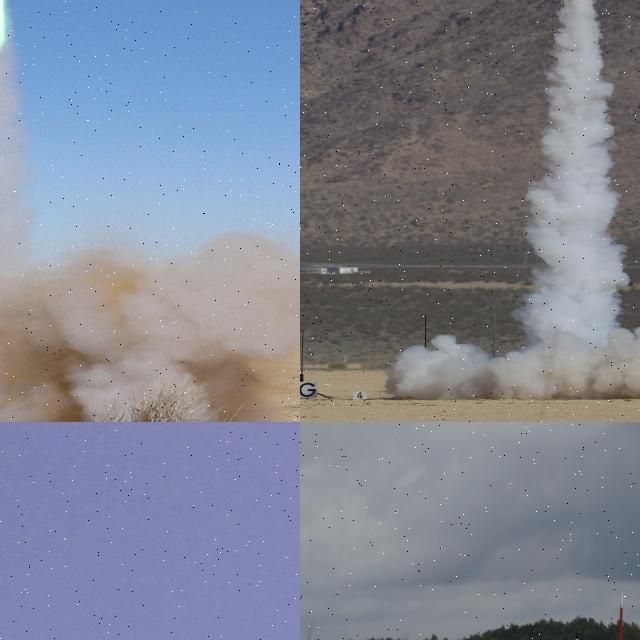Rocket: (618, 591, 623, 640), (575, 625, 578, 640)
